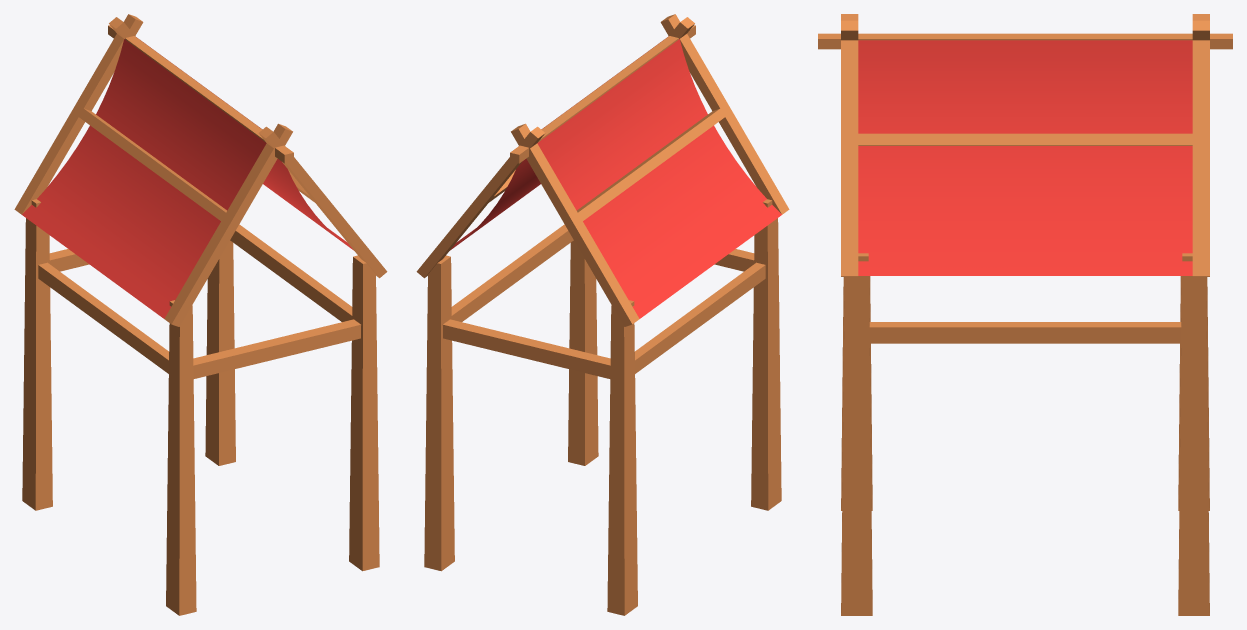
Rendered from tent.glb.
The picture shows the model from 3 angles, left to right: view 1: azimuth 30°, elevation 25°; view 2: azimuth 150°, elevation 25°; view 3: azimuth 270°, elevation 25°; orthographic projection. The views are drawn at different scales.
Parts seen in each view (by area): view 1: tentClosed, structureCloth.002; view 2: tentClosed, structureCloth.002; view 3: tentClosed, structureCloth.002.
Part boxes in pixels (bbox=[...]): tentClosed: bbox=[14, 14, 387, 326]; structureCloth.002: bbox=[22, 199, 379, 615]; tentClosed: bbox=[416, 14, 789, 326]; structureCloth.002: bbox=[424, 199, 781, 615]; tentClosed: bbox=[818, 14, 1232, 276]; structureCloth.002: bbox=[841, 253, 1209, 615].
Size of the model in its own units: 2.56 by 5.22 by 3.62.
